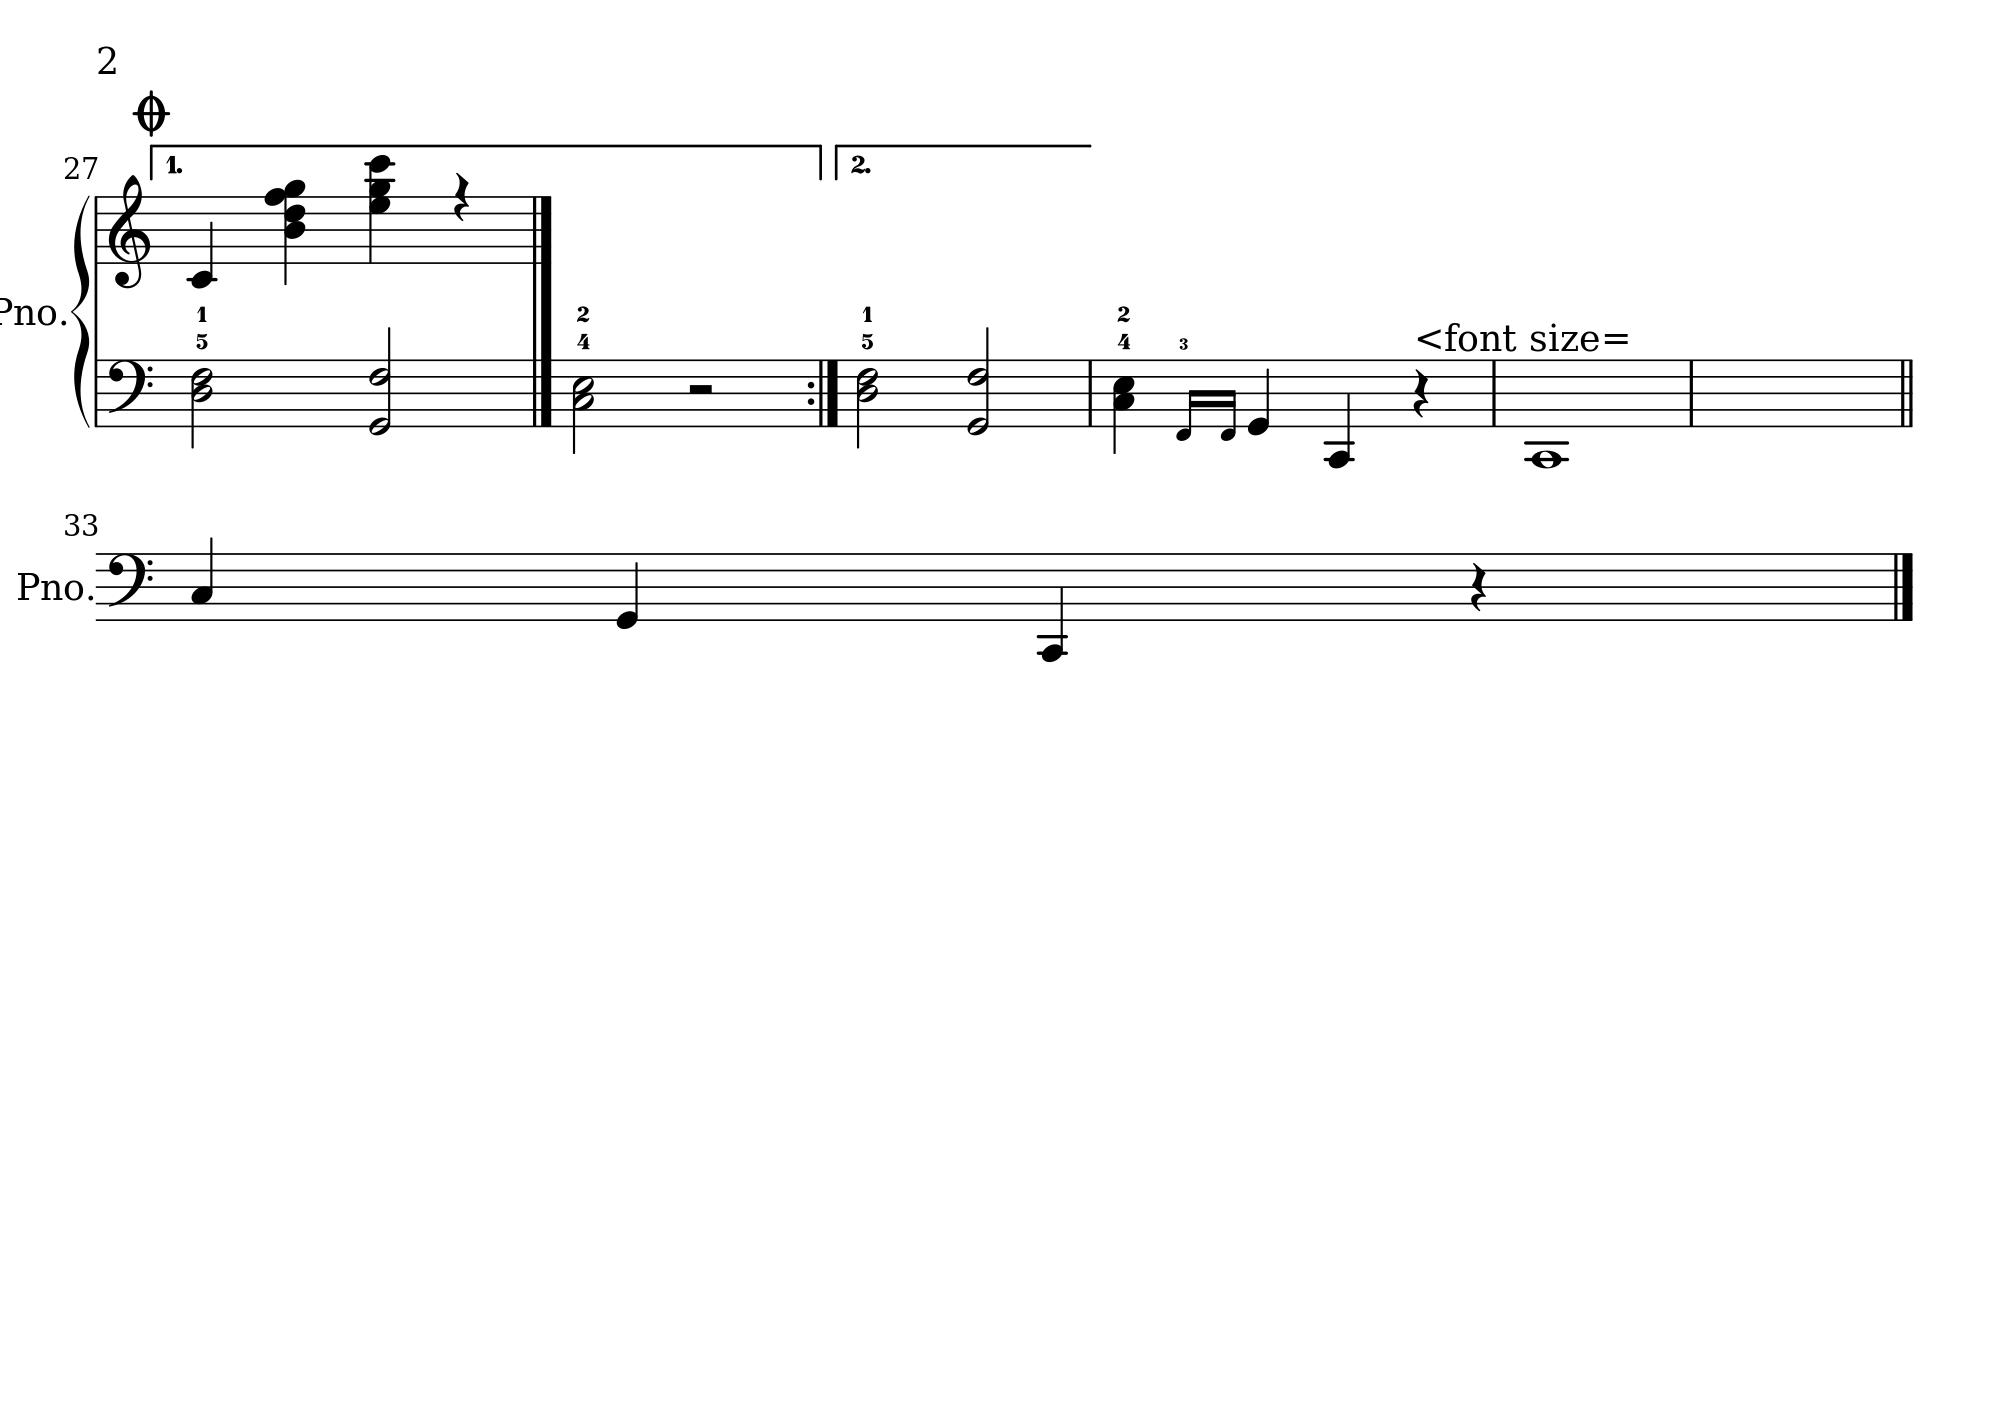16_-1: (1174, 358, 1200, 444), (1217, 360, 1238, 444)
1_-4: (1526, 357, 1569, 470)
2: (95, 43, 118, 75), (61, 154, 81, 181)
2_0_6: (367, 327, 393, 440), (966, 327, 991, 436)
2_3_5: (572, 358, 596, 450)
2_4_6: (189, 358, 215, 450), (856, 358, 880, 449)
3: (61, 512, 81, 536), (80, 512, 98, 536), (1178, 335, 1189, 350)
4: (1115, 330, 1132, 350)
4_-2: (189, 195, 215, 290)
4_-4: (1323, 357, 1355, 469), (1037, 550, 1068, 662)
4_0: (615, 550, 641, 632), (1246, 357, 1272, 436)
4_3: (189, 535, 215, 621)
4_3_5: (1109, 357, 1135, 456)
4_3th: (264, 177, 309, 286)
4_th: (363, 152, 396, 264)
7: (81, 152, 98, 181)
Accent_above: (1417, 327, 1443, 347)
Brace: (71, 194, 92, 429)
Coda: (131, 89, 171, 135)
Double_barline: (1894, 360, 1917, 427)
Fclef: (104, 550, 155, 622), (104, 357, 154, 429)
Final_barline: (527, 358, 556, 427), (527, 194, 555, 261), (1888, 552, 1916, 619)
Gclef: (108, 174, 151, 290)
Pno: (12, 569, 86, 602), (2, 294, 57, 330)
Rests2: (685, 380, 717, 400)
Rests4: (450, 169, 472, 223), (1410, 366, 1432, 420), (1469, 559, 1489, 613)
RightRepeatSign: (804, 360, 842, 427)
Single_barline: (1486, 358, 1503, 427), (1682, 360, 1699, 426), (1083, 360, 1098, 426), (91, 360, 104, 426), (91, 197, 104, 261)
